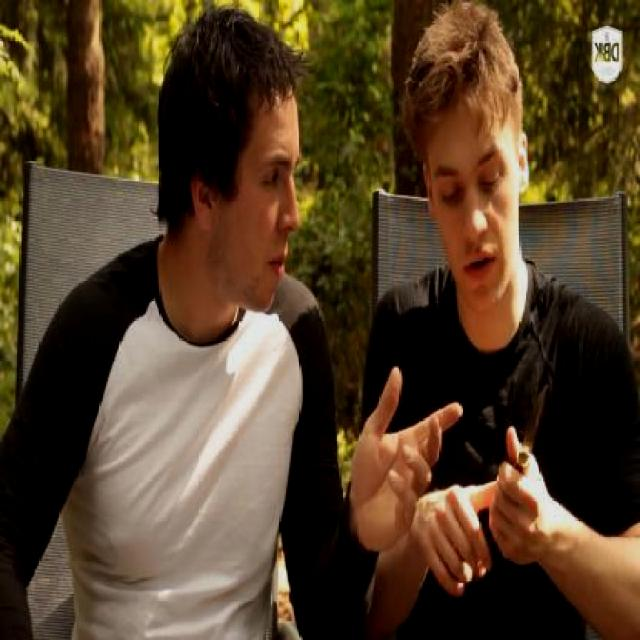knife: (489, 363, 563, 531)
